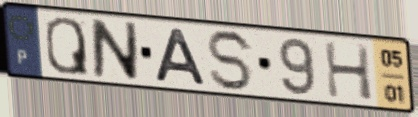9: (274, 36, 319, 98)
A: (151, 26, 209, 87)
H: (321, 39, 376, 103)
N: (89, 17, 141, 84)
Q: (43, 15, 91, 78)
S: (205, 28, 257, 93)
